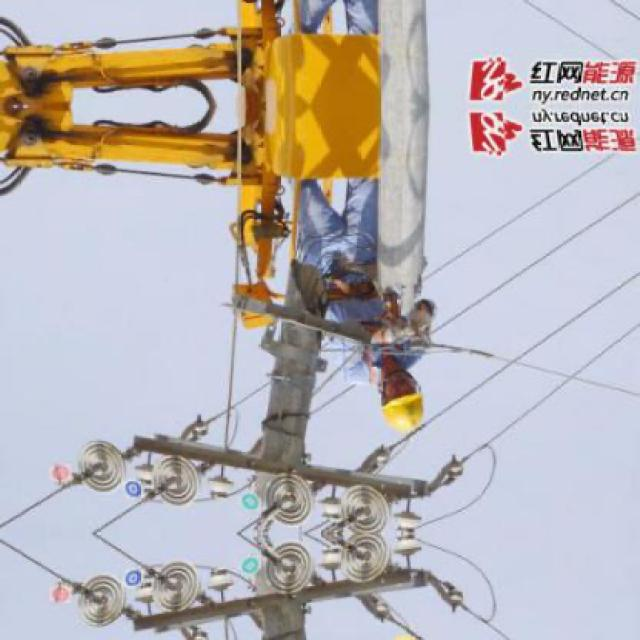con casco: (362, 343, 448, 466)
